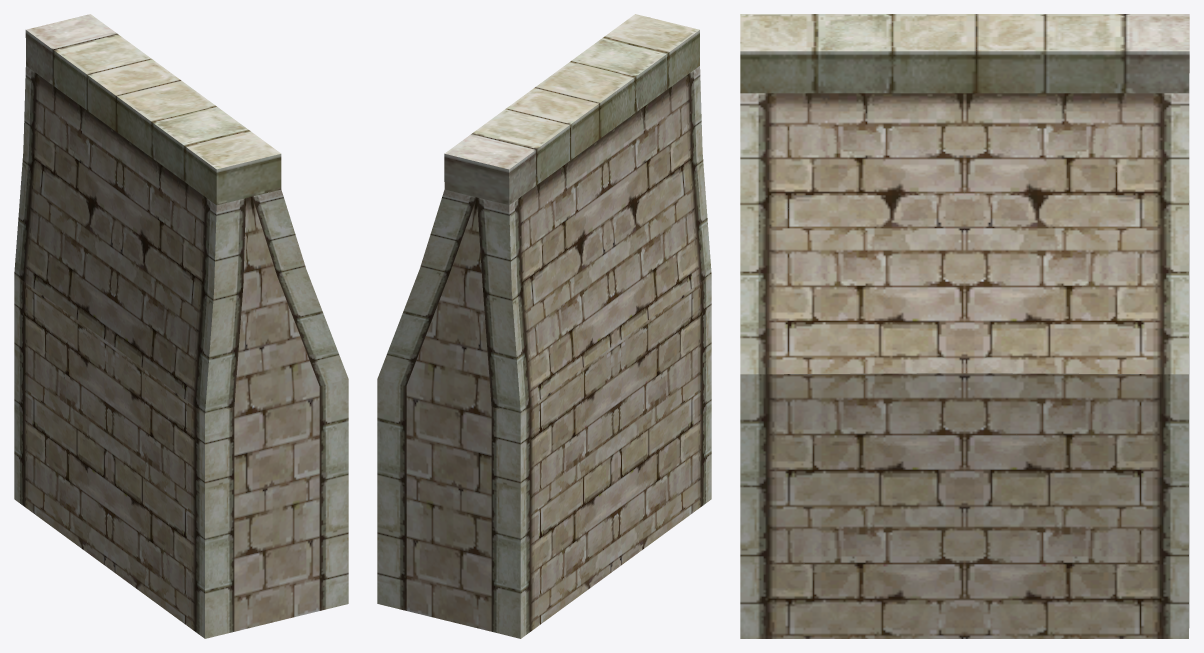
3 views of the same model, side by side, from view 1: azimuth 30°, elevation 25°; view 2: azimuth 150°, elevation 25°; view 3: azimuth 270°, elevation 25° (orthographic). The views are drawn at different scales.
Visible parts, largest first — view 1: geom_node_0; view 2: geom_node_0; view 3: geom_node_0.
Part boxes in pixels (x1,y1,x2,y2): geom_node_0: (14, 14, 348, 638); geom_node_0: (377, 14, 711, 638); geom_node_0: (740, 14, 1189, 638).
Bounding box in the file's own units: 1.63 × 5.06 × 3.75.
Materials: 1 (1 with a texture image).
